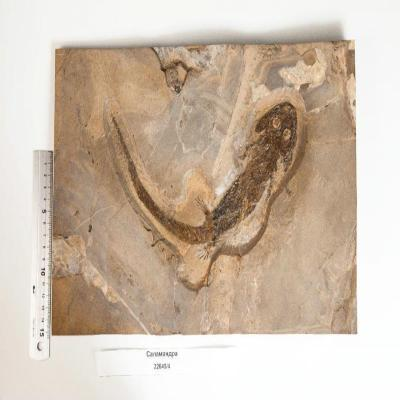natural_science_collection: (104, 89, 308, 298)
